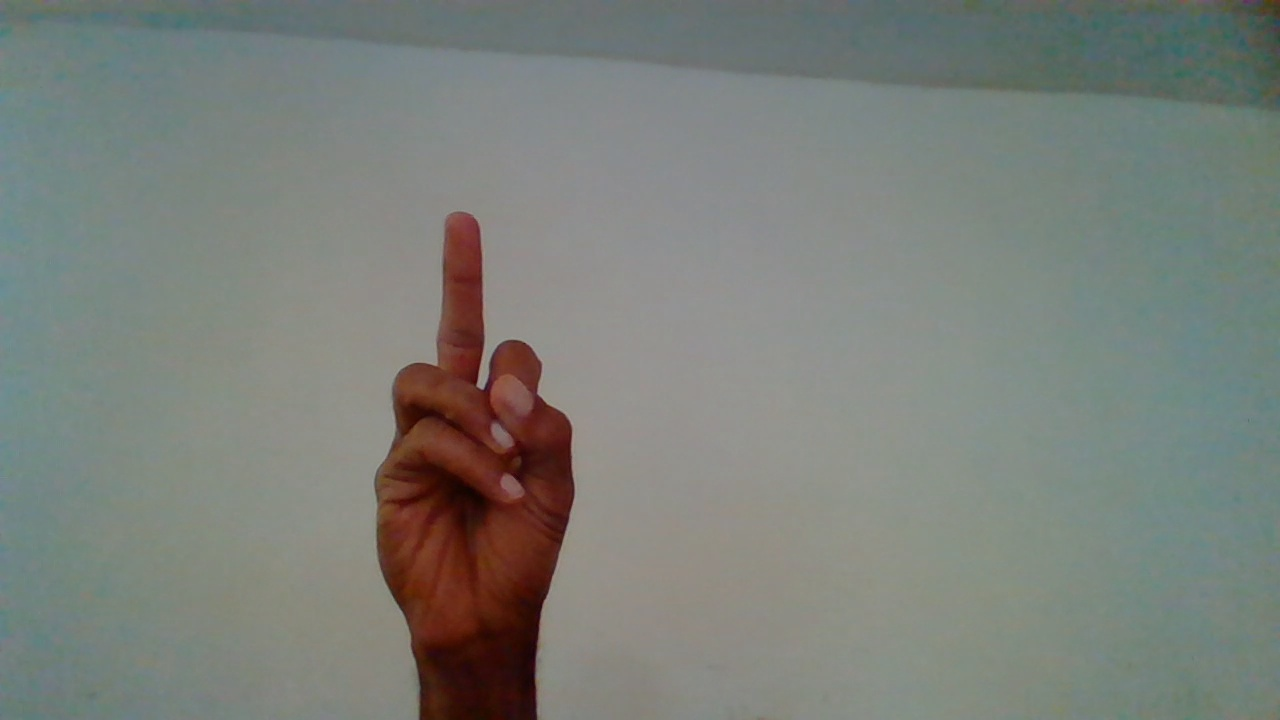he: (362, 213, 576, 720)
